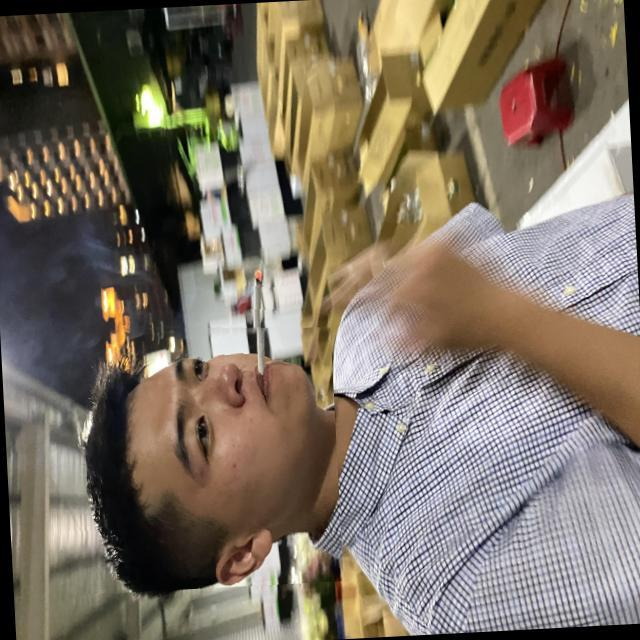cigarette: (244, 250, 284, 379)
